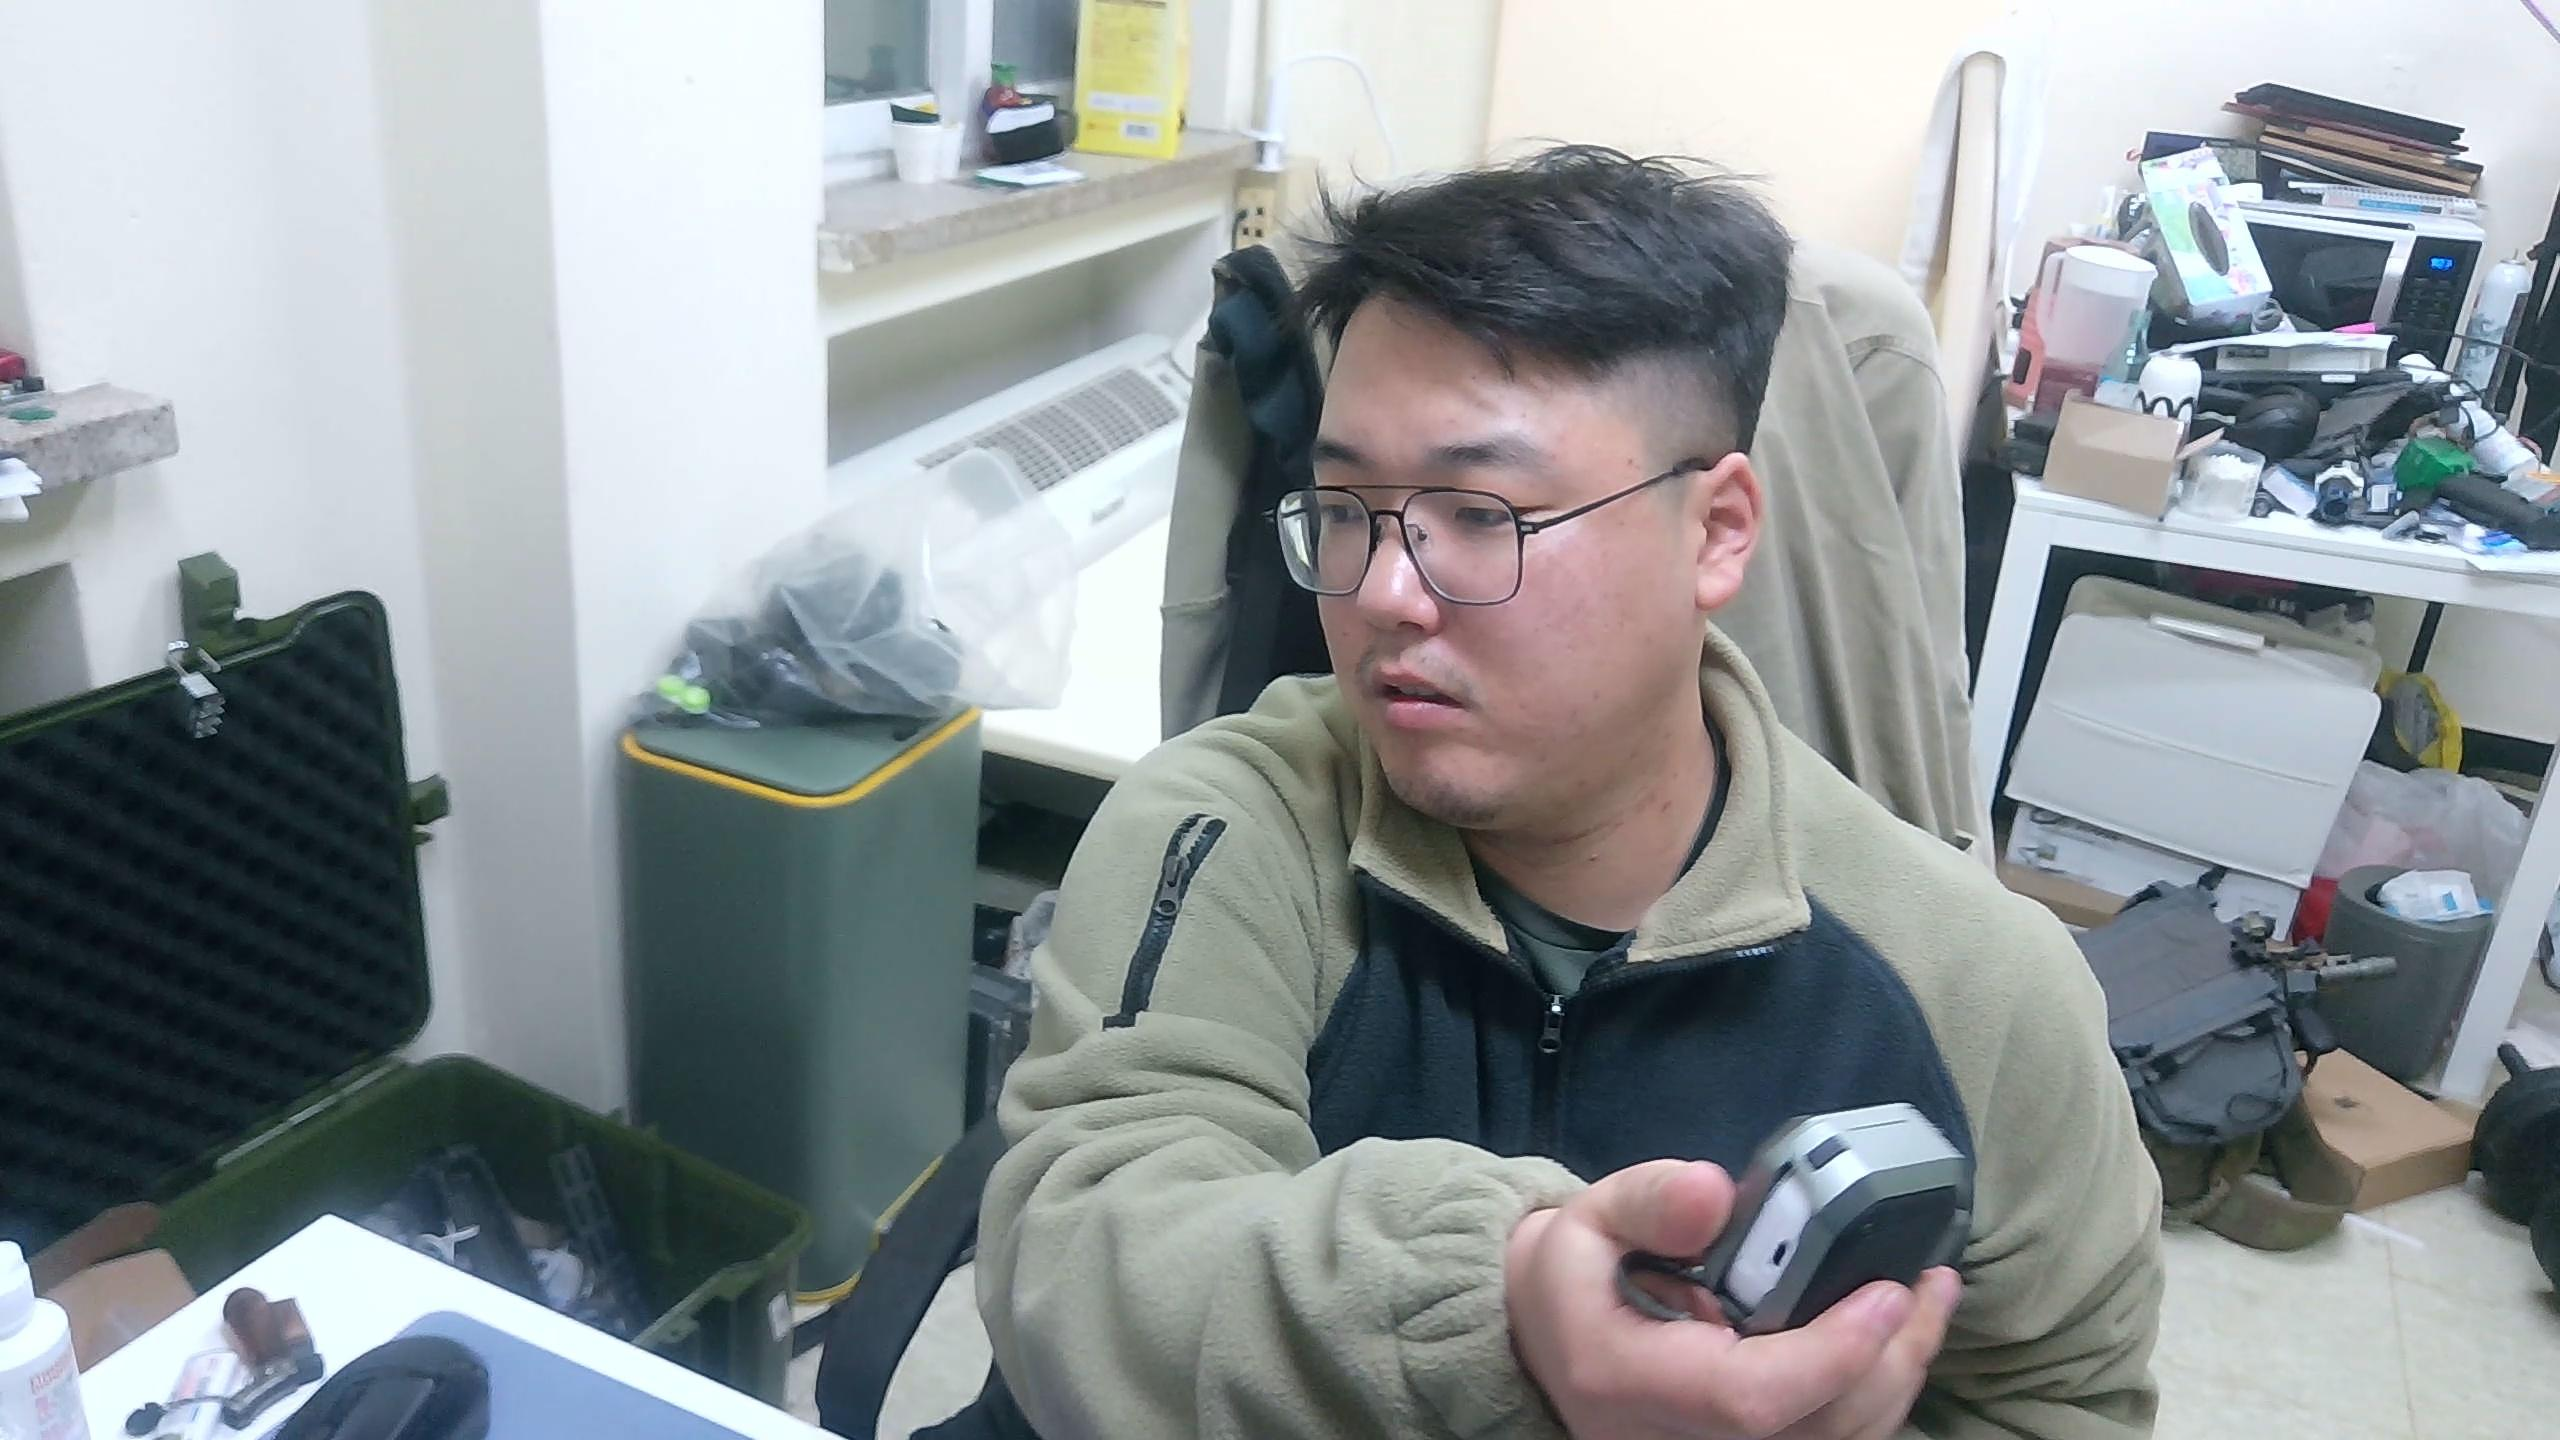blue_pliers: (1621, 1097, 1978, 1340)
